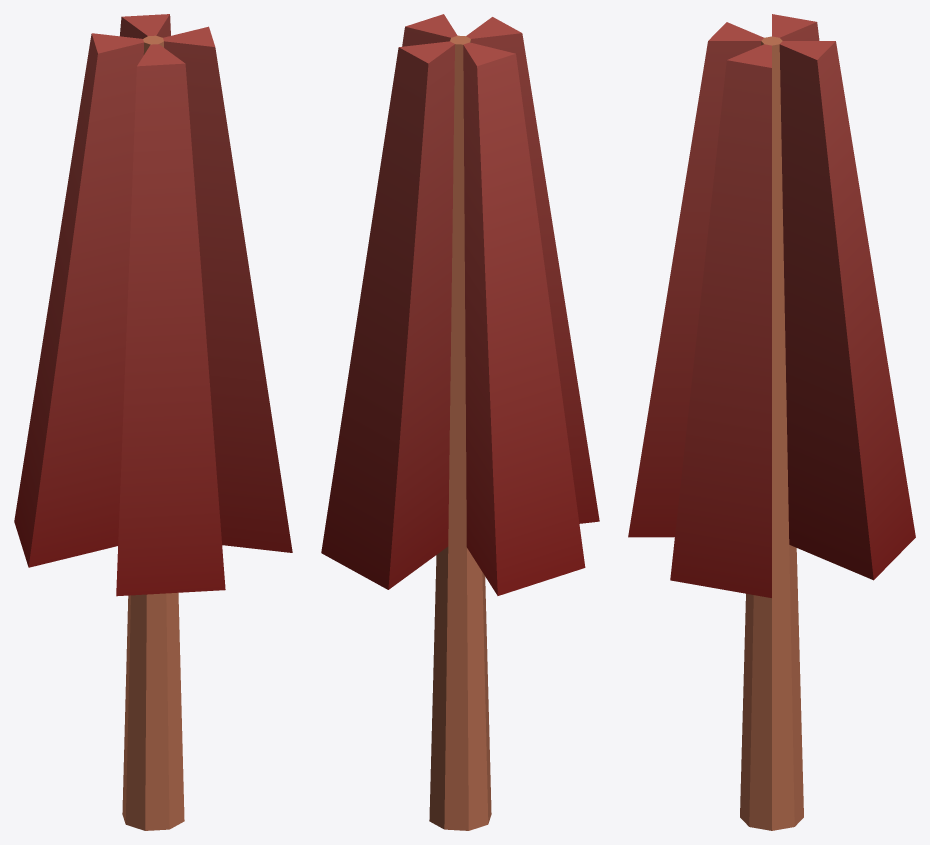
The model's file is Tree_28_gradient_red_vc.fbx.
The picture shows the model from 3 angles, left to right: view 1: azimuth 30°, elevation 25°; view 2: azimuth 150°, elevation 25°; view 3: azimuth 270°, elevation 25°; orthographic projection.
Visible parts, largest first — view 1: Tree_28_gradient_red_vc; view 2: Tree_28_gradient_red_vc; view 3: Tree_28_gradient_red_vc.
Boxes of the visible parts, bbox=[...] form: Tree_28_gradient_red_vc: bbox=[14, 14, 292, 830]; Tree_28_gradient_red_vc: bbox=[321, 14, 599, 830]; Tree_28_gradient_red_vc: bbox=[628, 14, 915, 830].
Size of the model in its own units: 98.97 by 294 by 98.97.
